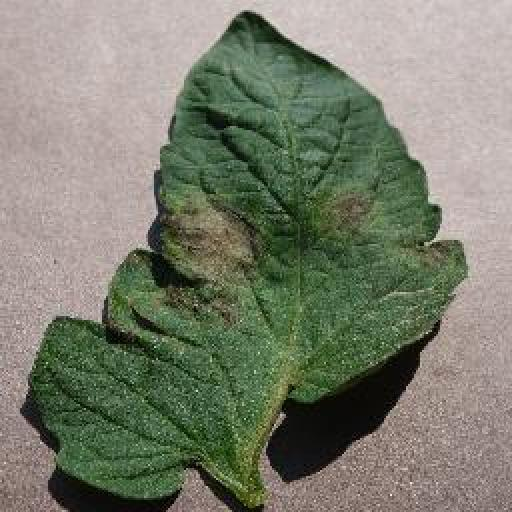disease_tomato: (32, 5, 473, 496)
